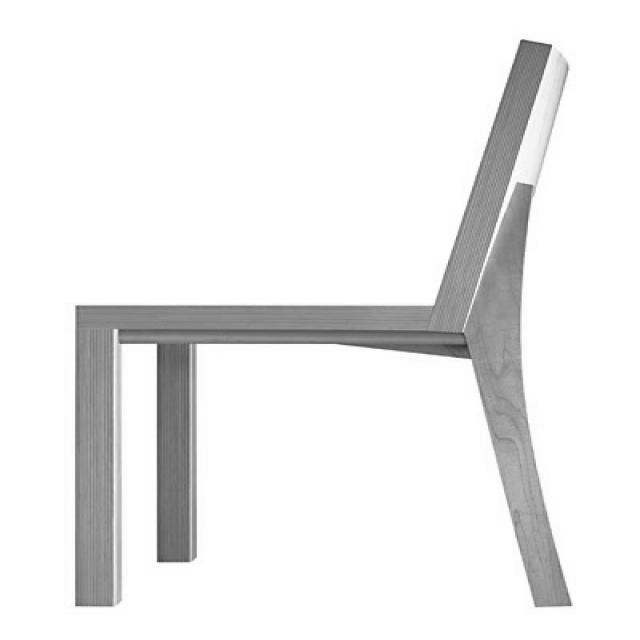chair: (73, 38, 593, 606)
